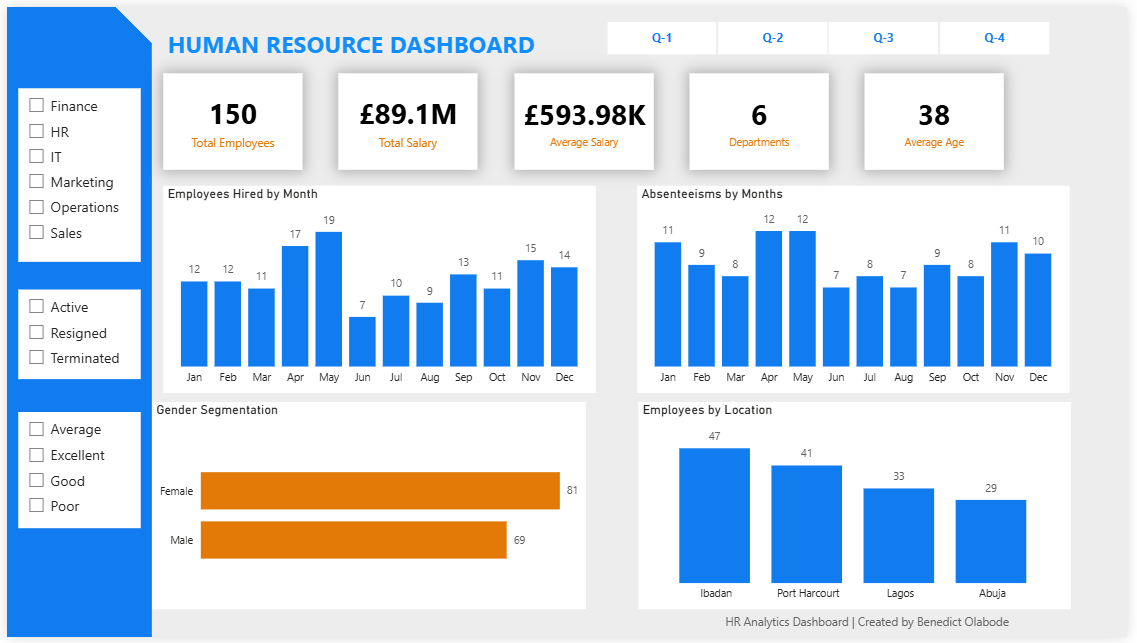

The page's visual inventory and layout, read from the dashboard file:
{"tool":"powerbi","page":{"name":"Page 1","canvas":[1280,720],"ordinal":0},"visuals":[{"type":"shape","box":[0,0,165.6,720.2],"z":0},{"type":"textbox","box":[179.1,18.4,433.1,51.5],"z":1000},{"type":"card","fields":{"Values":["Count(HR_Data.EmployeeID)"]},"box":[179.1,76.1,159.5,110.4],"z":2000},{"type":"card","fields":{"Values":["HR_Data.Total Salary"]},"box":[377.9,76.1,159.5,110.4],"z":3000},{"type":"card","fields":{"Values":["HR_Data.Avg.Salary"]},"box":[580.4,75.8,159.5,110.4],"z":4000},{"type":"card","fields":{"Values":["HR_Data.Unique Departments"]},"box":[780.4,75.8,159.5,110.4],"z":5000},{"type":"card","fields":{"Values":["Avg(HR_Data.Age)"]},"box":[980.4,75.8,159.5,110.4],"z":6000},{"type":"columnChart","title":"Employee ID by Months","fields":{"Category":["Date Table.Months"],"Y":["CountNonNull(HR_Data.EmployeeID)"]},"box":[179.1,203.7,494.5,236.8],"z":7000},{"type":"columnChart","title":"Absenteeisms by Months","fields":{"Category":["Date Table.Months"],"Y":["Count(HR_Data.AbsenteeismDays)"]},"box":[720.2,203.7,494.5,236.8],"z":8000},{"type":"barChart","title":"Gender Segmentation","fields":{"Y":["CountNonNull(HR_Data.EmployeeID)"],"Category":["HR_Data.Gender"]},"box":[179.1,462.6,494.5,236.8],"z":9000},{"type":"columnChart","title":"Location by Employees","fields":{"Category":["HR_Data.Location"],"Y":["CountNonNull(HR_Data.EmployeeID)"]},"box":[720.2,462.6,494.5,236.8],"z":10000},{"type":"slicer","fields":{"Values":["HR_Data.Department"]},"box":[12.9,92.9,140,198.6],"z":11000},{"type":"slicer","fields":{"Values":["Date Table.Quarter"]},"box":[660,10,555,51.2],"z":12000},{"type":"slicer","fields":{"Values":["HR_Data.EmploymentStatus"]},"box":[12.5,322.5,140,102.5],"z":13000},{"type":"slicer","fields":{"Values":["HR_Data.PerformanceRating"]},"box":[12.5,462.5,140,132.5],"z":14000}]}

Visuals, with their boxes in screenshot pixels (x1, y1, x2, y2), scaled from the page's 1280x720 canvas onto the 1137x643 screenshot:
shape: <bbox>0, 0, 147, 642</bbox>
textbox: <bbox>159, 16, 544, 62</bbox>
card - Count(HR_Data.EmployeeID): <bbox>159, 68, 301, 167</bbox>
card - HR_Data.Total Salary: <bbox>336, 68, 477, 167</bbox>
card - HR_Data.Avg.Salary: <bbox>516, 68, 657, 166</bbox>
card - HR_Data.Unique Departments: <bbox>693, 68, 835, 166</bbox>
card - Avg(HR_Data.Age): <bbox>871, 68, 1013, 166</bbox>
"Employee ID by Months" columnChart: <bbox>159, 182, 598, 393</bbox>
"Absenteeisms by Months" columnChart: <bbox>640, 182, 1079, 393</bbox>
"Gender Segmentation" barChart: <bbox>159, 413, 598, 625</bbox>
"Location by Employees" columnChart: <bbox>640, 413, 1079, 625</bbox>
slicer - HR_Data.Department: <bbox>11, 83, 136, 260</bbox>
slicer - Date Table.Quarter: <bbox>586, 9, 1079, 55</bbox>
slicer - HR_Data.EmploymentStatus: <bbox>11, 288, 135, 380</bbox>
slicer - HR_Data.PerformanceRating: <bbox>11, 413, 135, 531</bbox>
